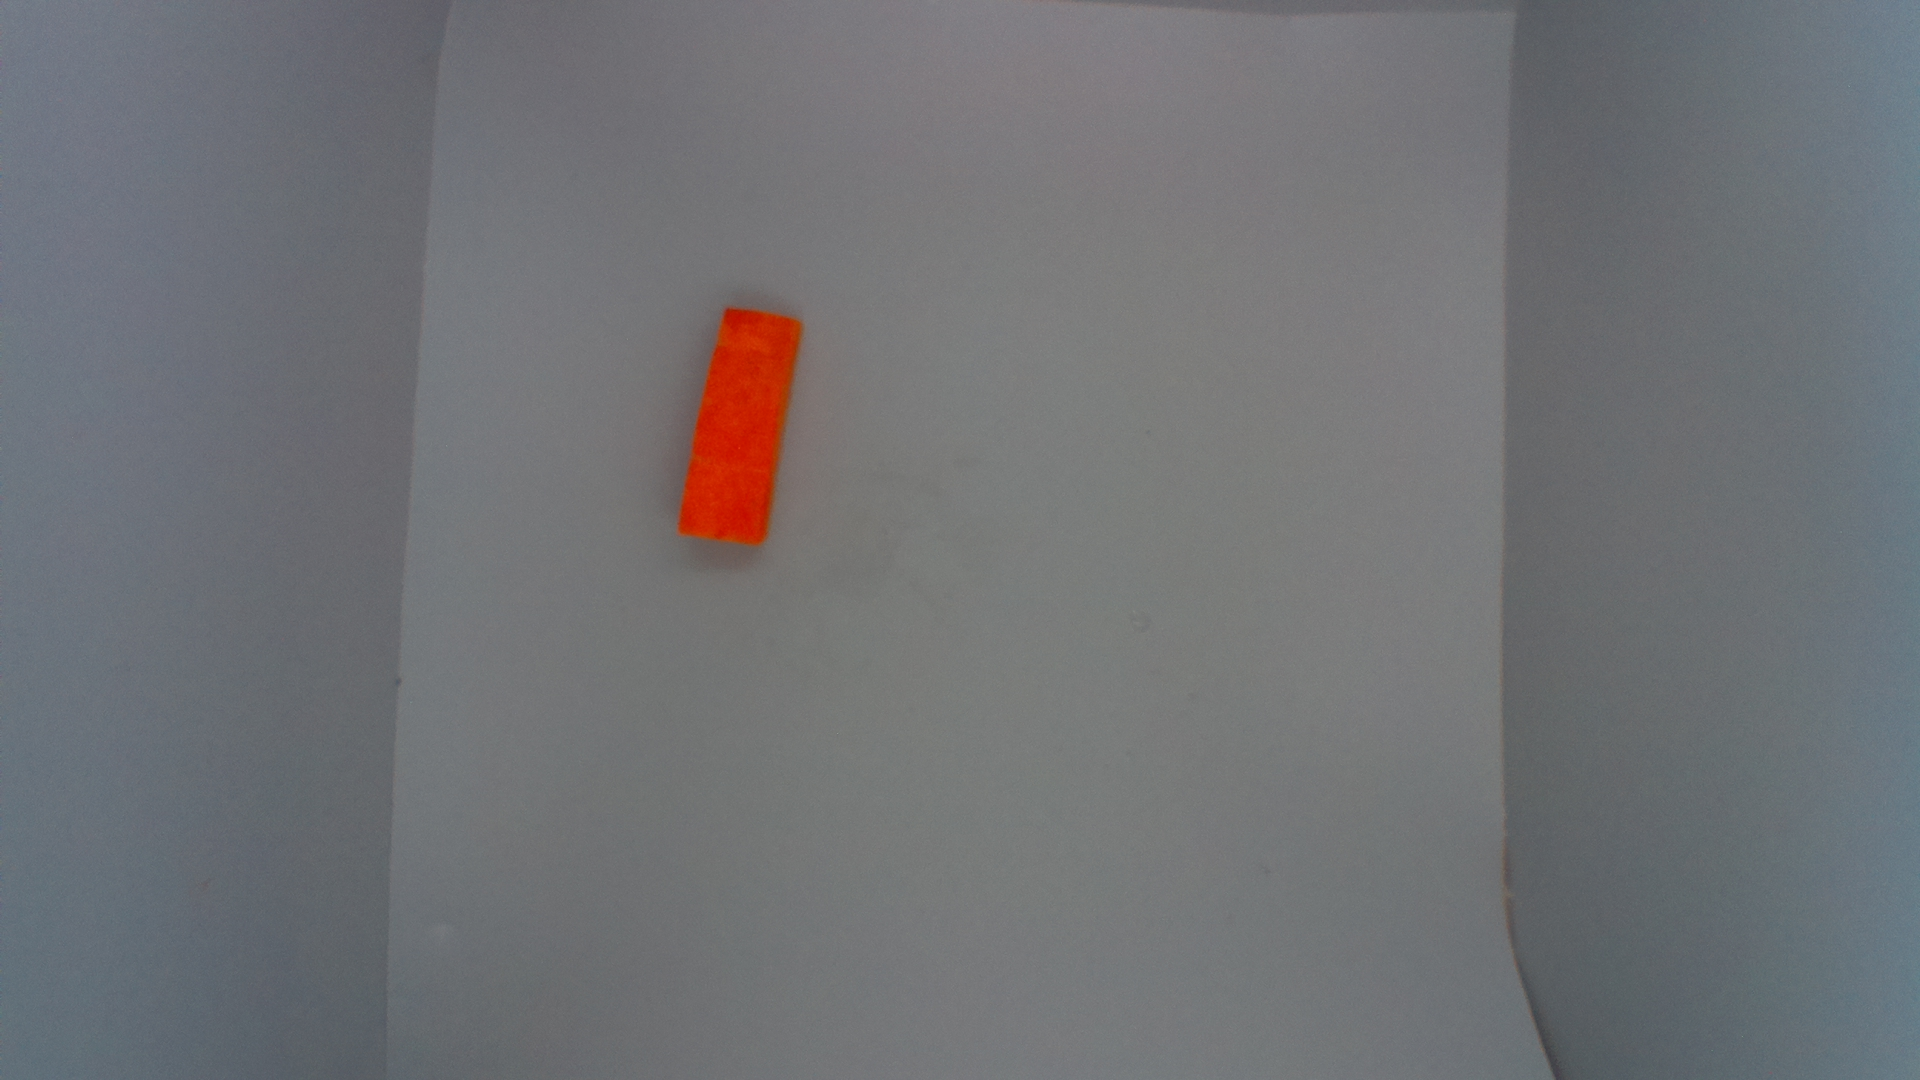carrot: (680, 305, 800, 553)
